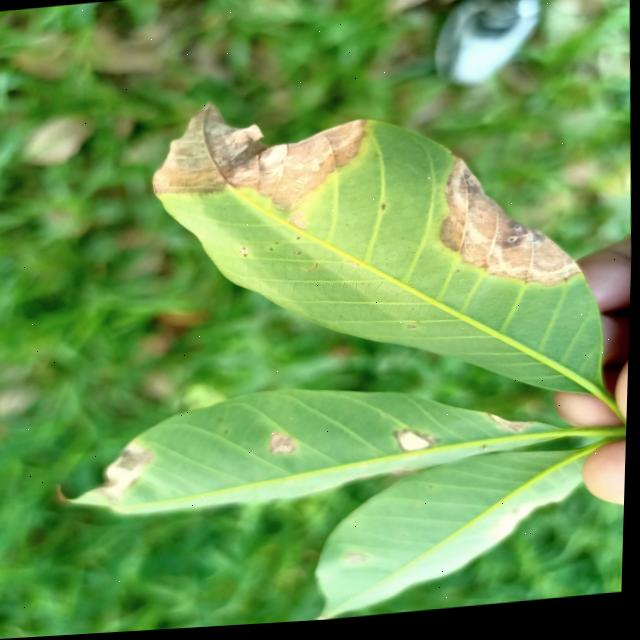Colletotrichum: (240, 251, 250, 259)
Leaf-Blight: (149, 93, 370, 222), (436, 153, 588, 301), (91, 439, 159, 507), (495, 416, 536, 440), (401, 433, 434, 457), (272, 434, 300, 460)
